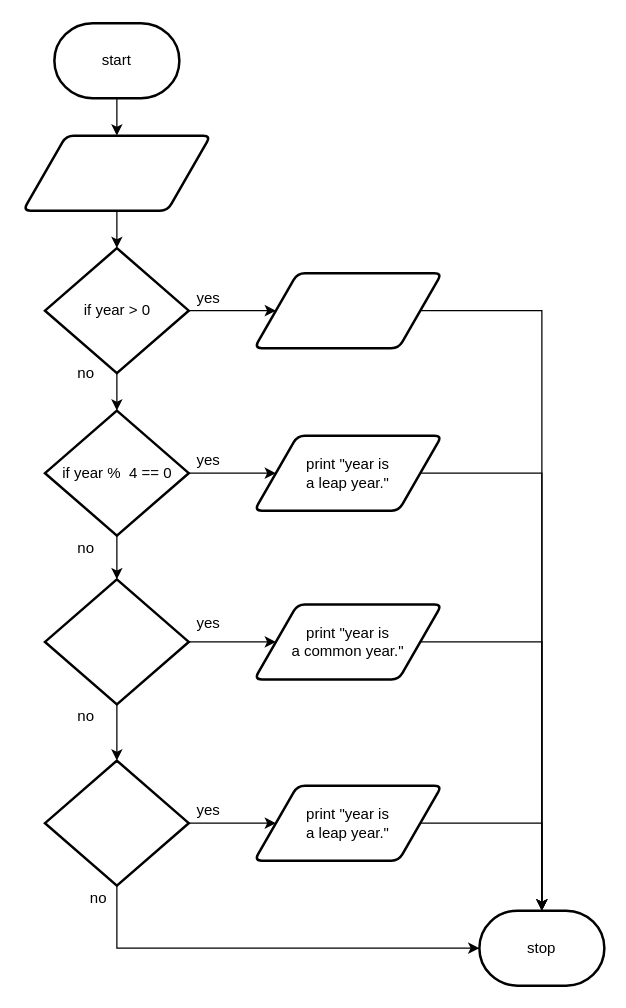
The diagram is 626 pixels wide and 1008 high, and some of its shapes have lost their labels. Each missing label, with the centre of its shape:
get user input: (x=116, y=172)
if year % 100 == 0: (x=116, y=641)
if year % 400 == 0: (x=116, y=822)
print "year is common year.": (x=347, y=310)
